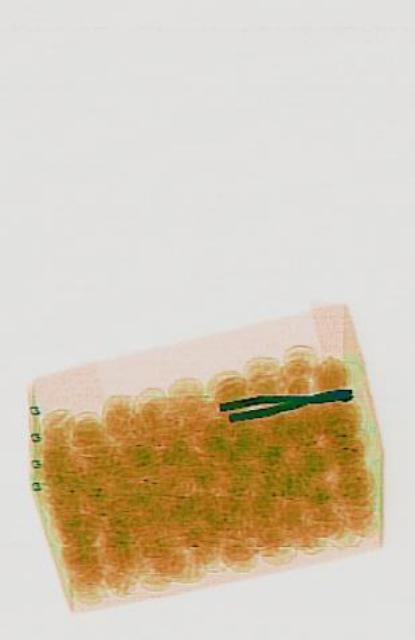Pliers: (215, 376, 350, 424)
